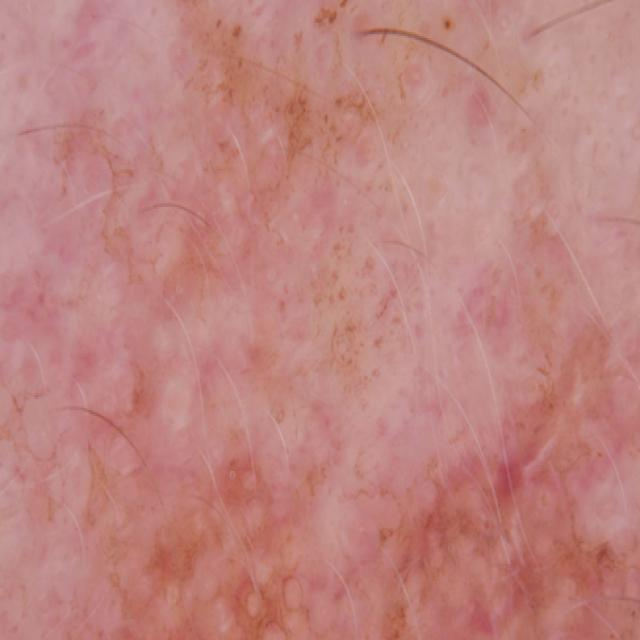Melanoma: (75, 117, 623, 640)
